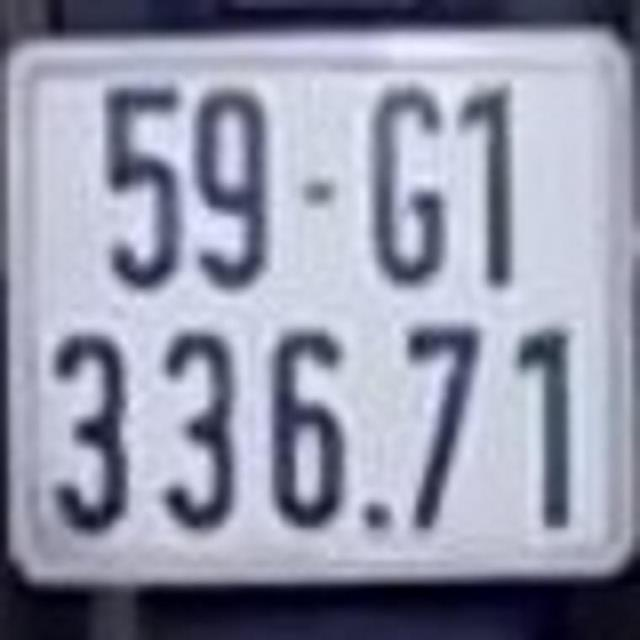1: (457, 64, 538, 294), (510, 315, 592, 535)
3: (49, 318, 135, 542), (158, 317, 238, 538)
5: (99, 79, 185, 288)
6: (262, 313, 343, 529)
7: (401, 311, 485, 528)
9: (186, 72, 276, 295)
G: (363, 67, 450, 287)
